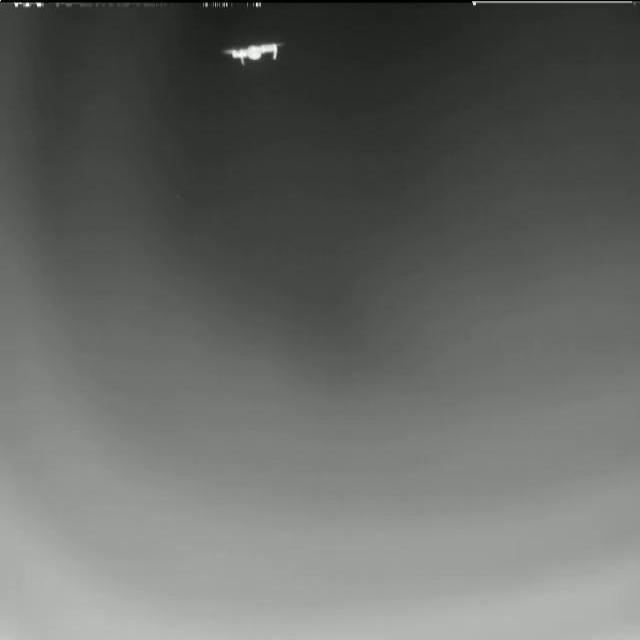DRONE: (220, 39, 289, 65)
